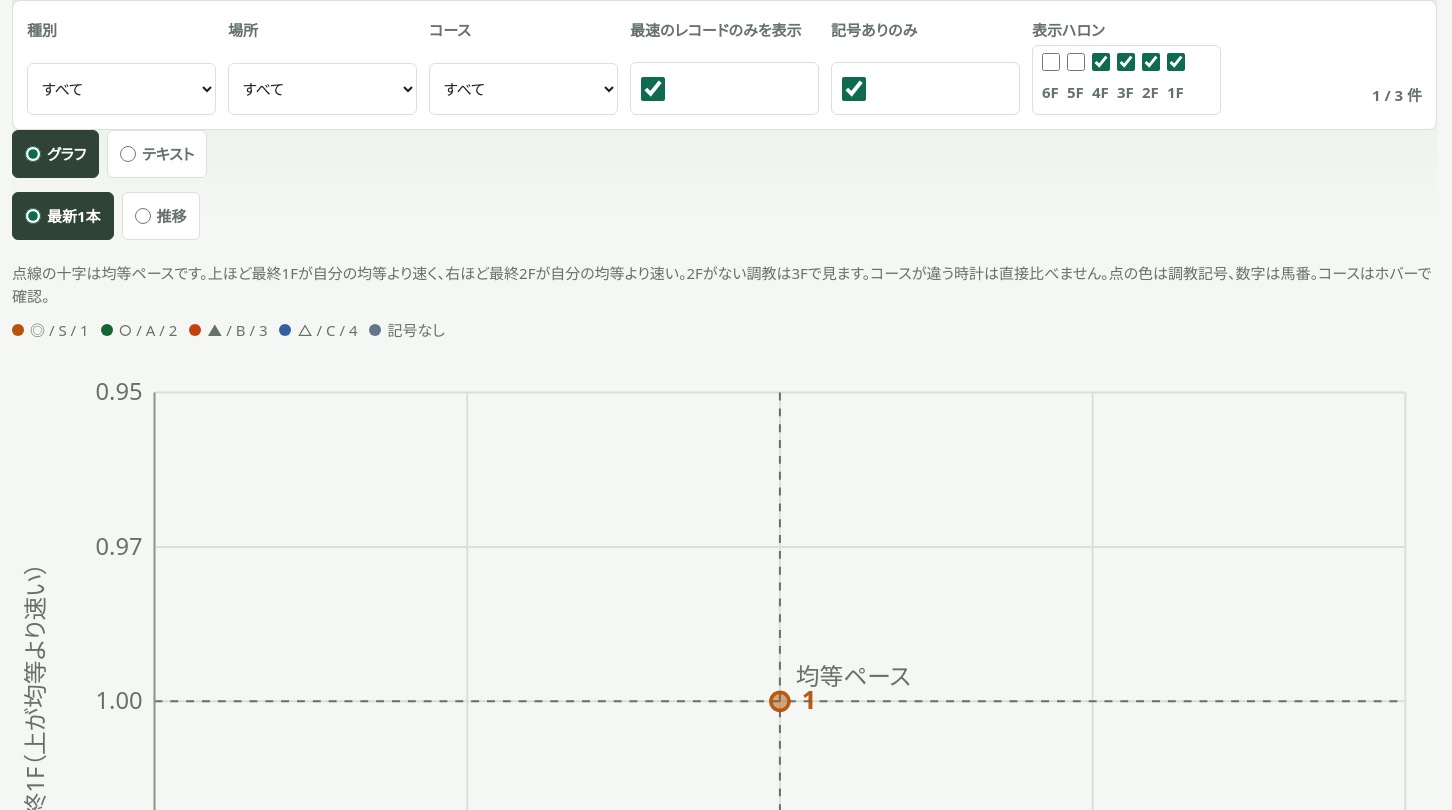
training table › selects the best premium grade before the fastest 1F record when filtering graded rows
This screenshot has width=1452, height=810.
Click the radio button labelled "テキスト": (128, 154) [120,146,136,162]
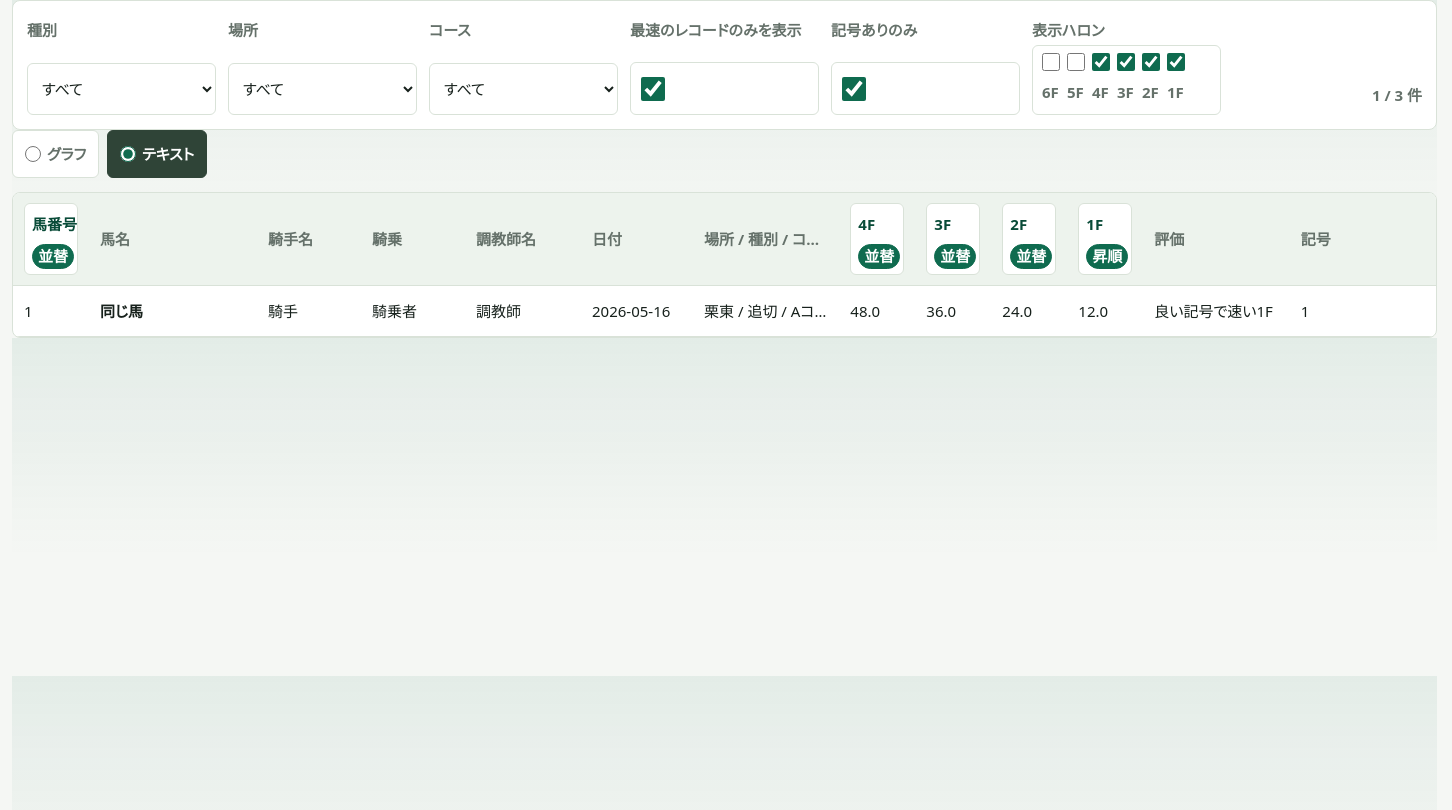
Expected: the text "良い記号で速い1F" is shown, [1143,286,1290,336]
